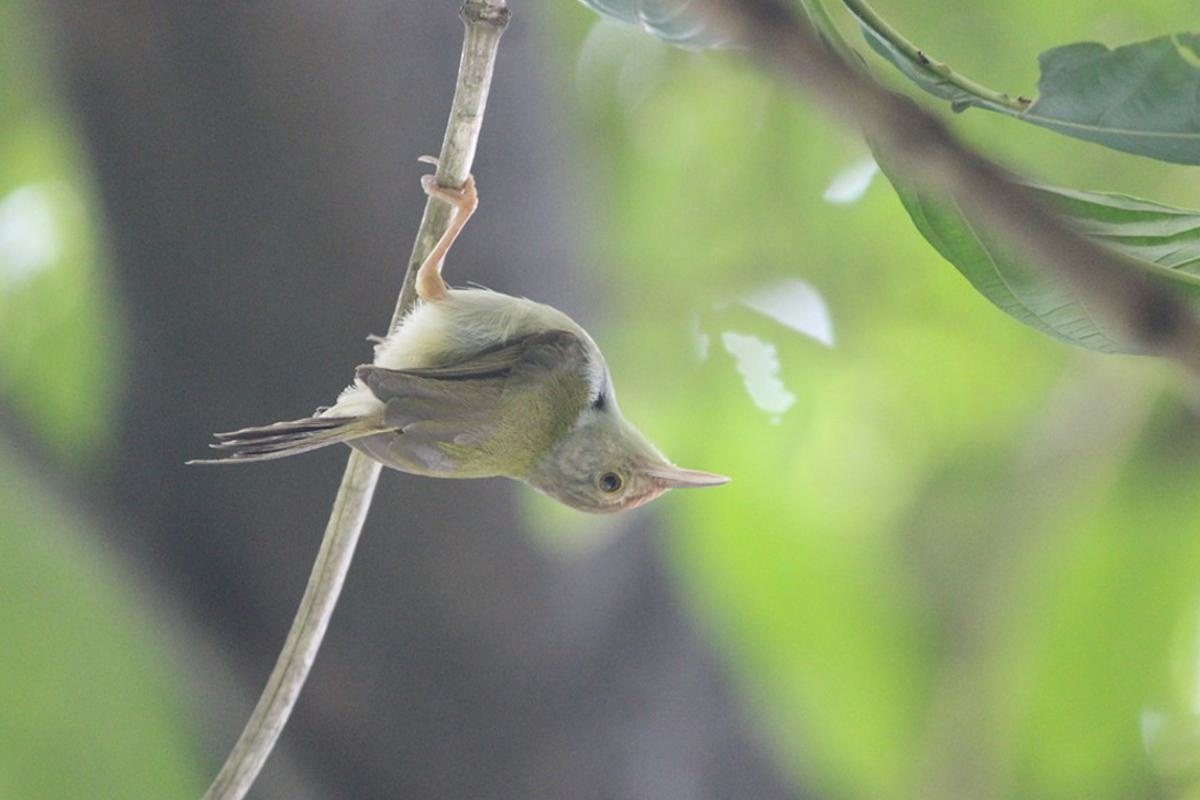tailorbird: (274, 243, 738, 562)
